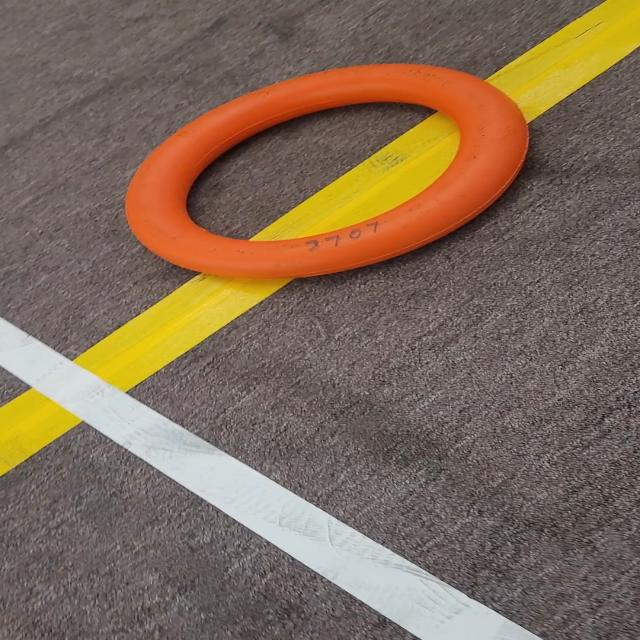note: (115, 53, 551, 291)
